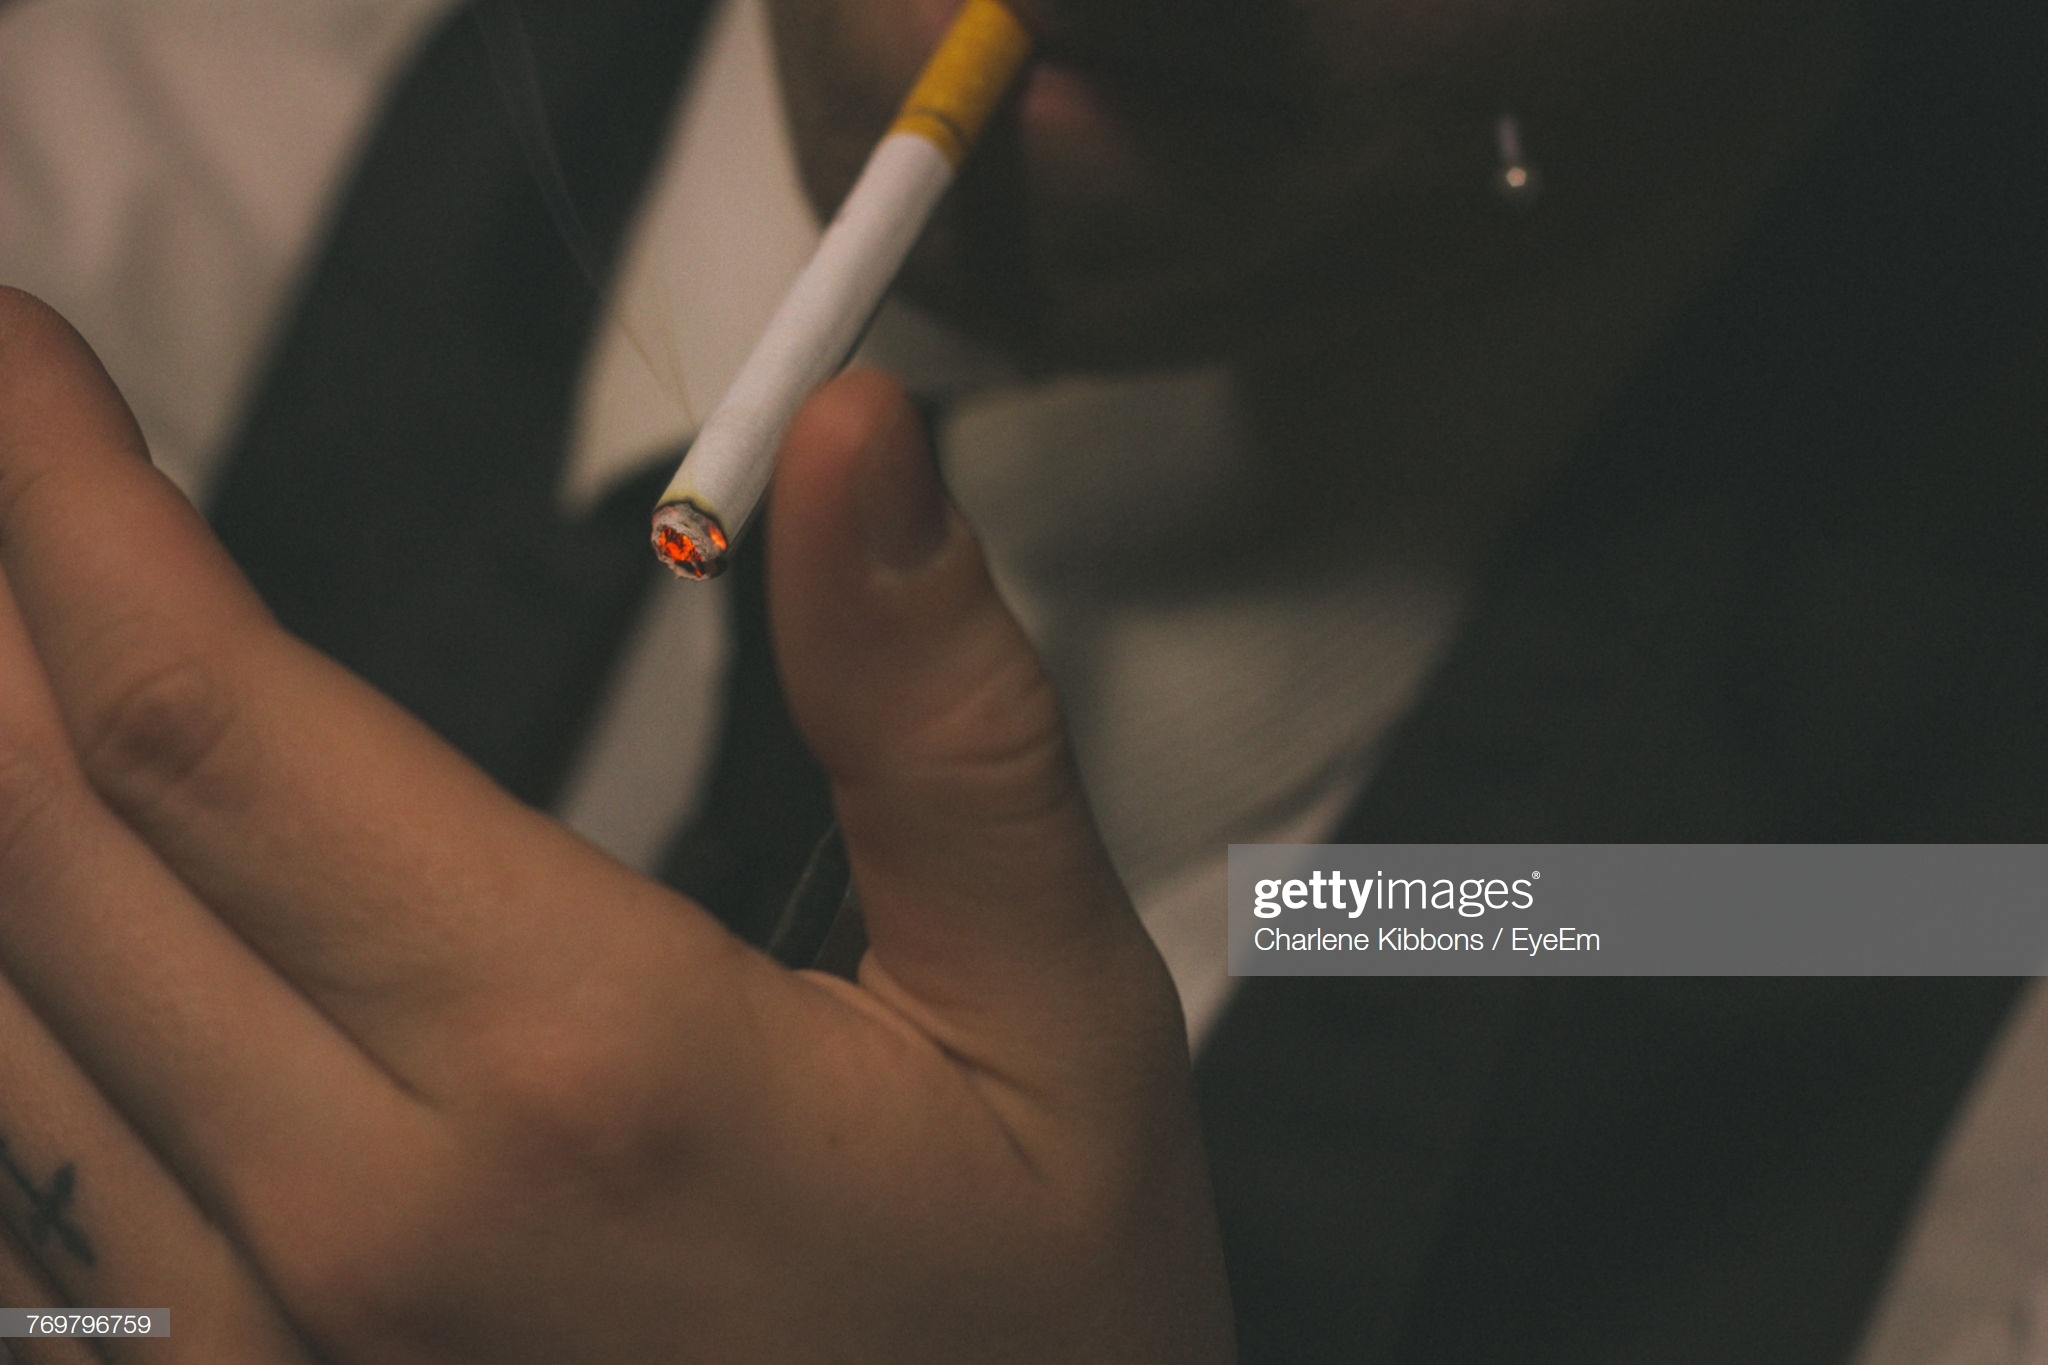sigaretta: (647, 2, 1054, 571)
